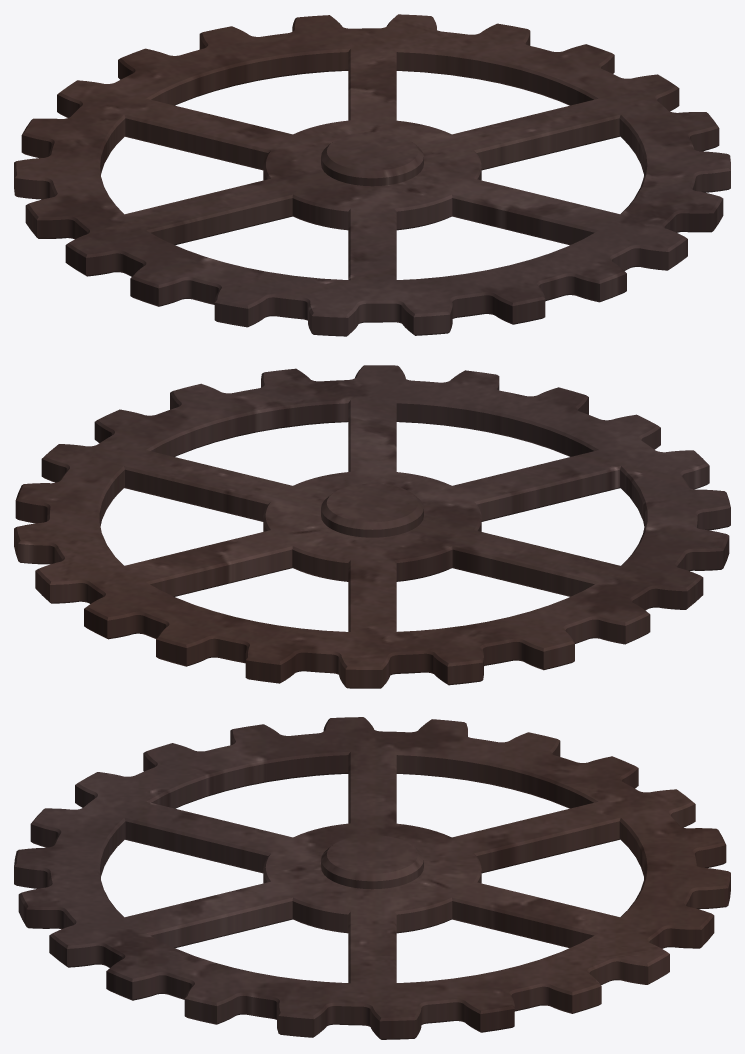
Rendered from gear2.fbx.
The picture shows the model from 3 angles, top to bottom: view 1: azimuth 30°, elevation 25°; view 2: azimuth 150°, elevation 25°; view 3: azimuth 270°, elevation 25°; orthographic projection.
Visible parts, largest first — view 1: gear_2; view 2: gear_2; view 3: gear_2.
Boxes of the visible parts, x1,y1,x2,y2 form: gear_2: (14, 14, 730, 336); gear_2: (14, 365, 730, 688); gear_2: (14, 717, 730, 1039).
Size of the model in its own units: 12.01 by 0.9125 by 12.01.
